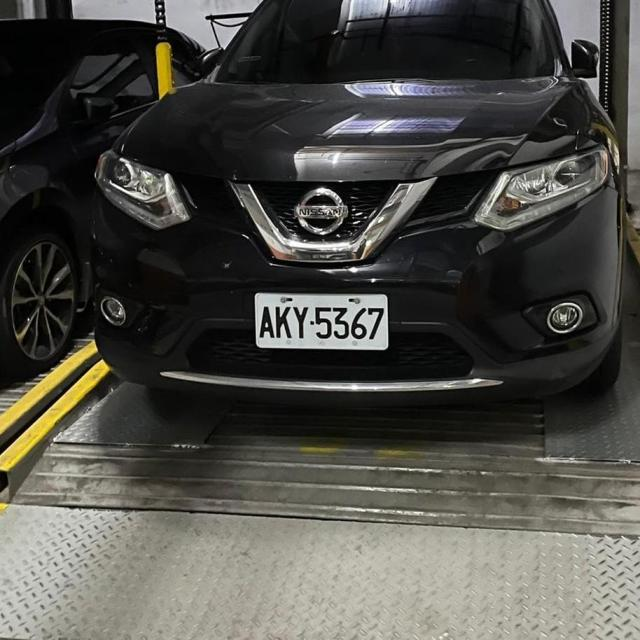W: (247, 280, 400, 356)
